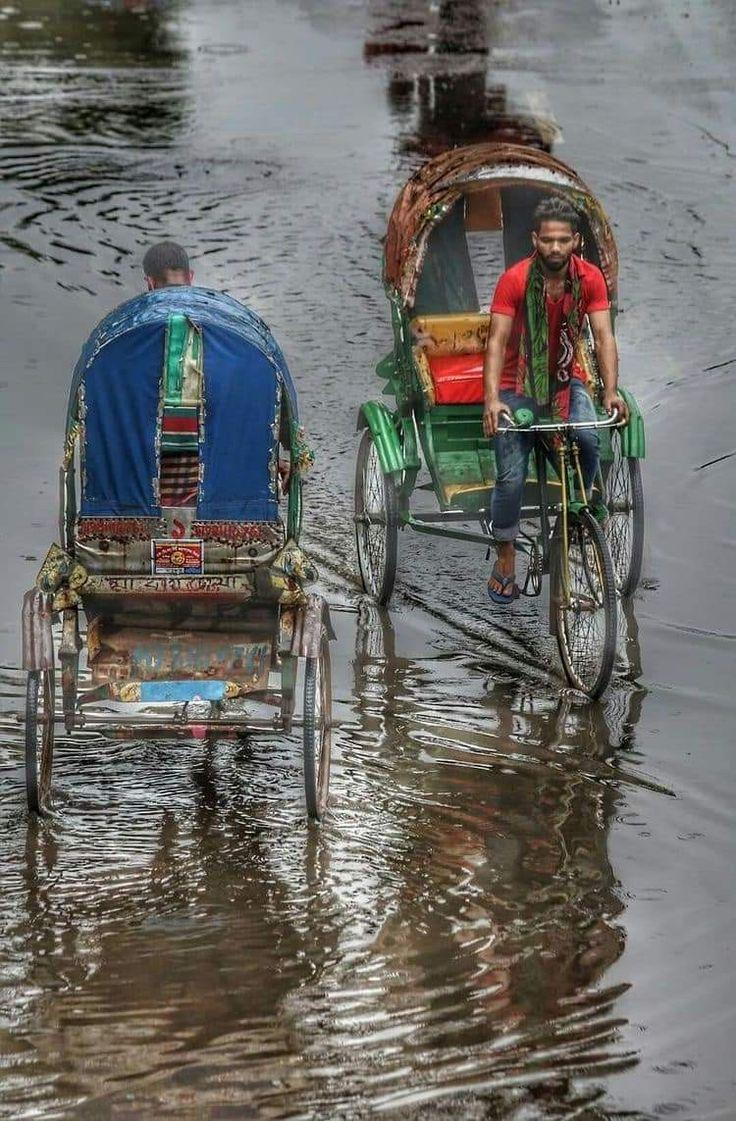Rickshaw: (23, 286, 330, 817), (355, 143, 616, 602)
